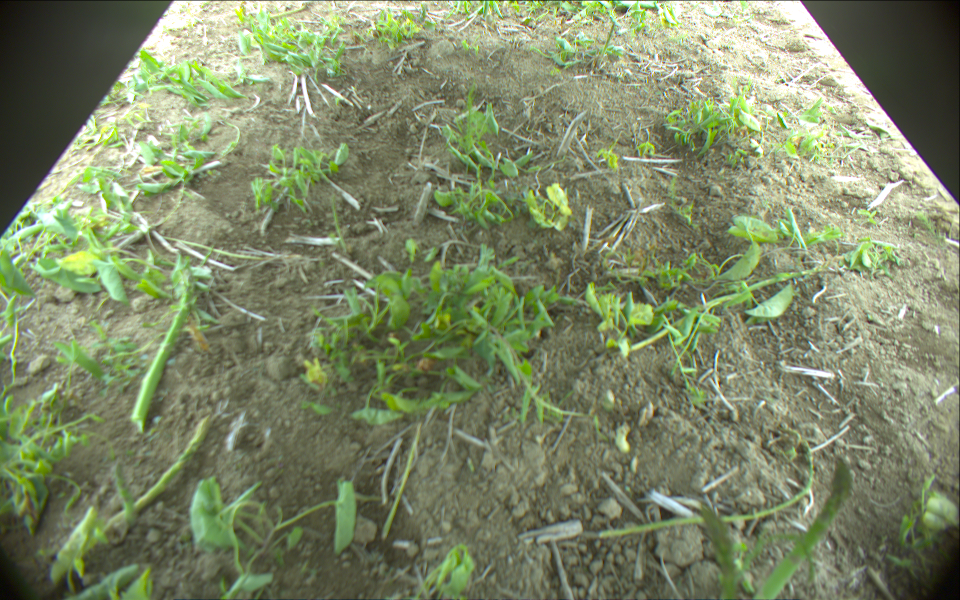aspa: (598, 445, 815, 537), (633, 264, 825, 351), (752, 456, 852, 600), (107, 417, 211, 529), (129, 278, 190, 427), (113, 464, 137, 521), (594, 19, 616, 67), (264, 5, 307, 20)
